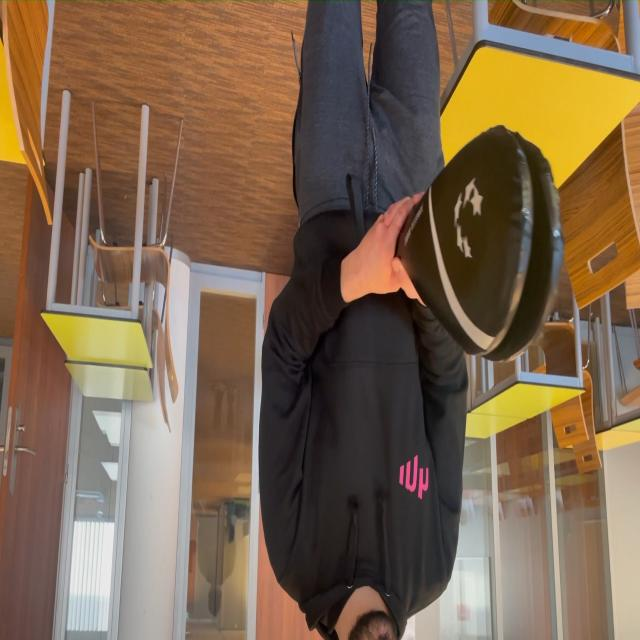paddle: (424, 134, 556, 358)
